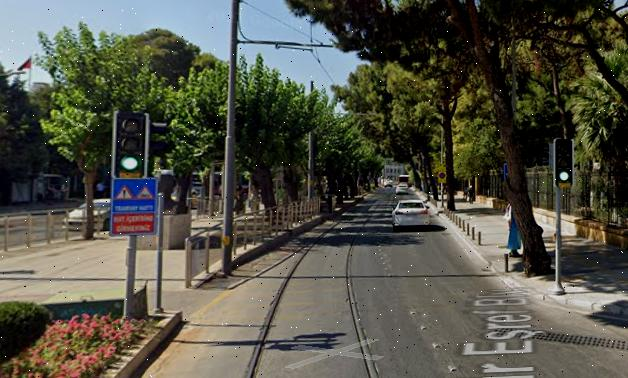greenlight: (116, 112, 146, 171), (554, 139, 571, 182)
